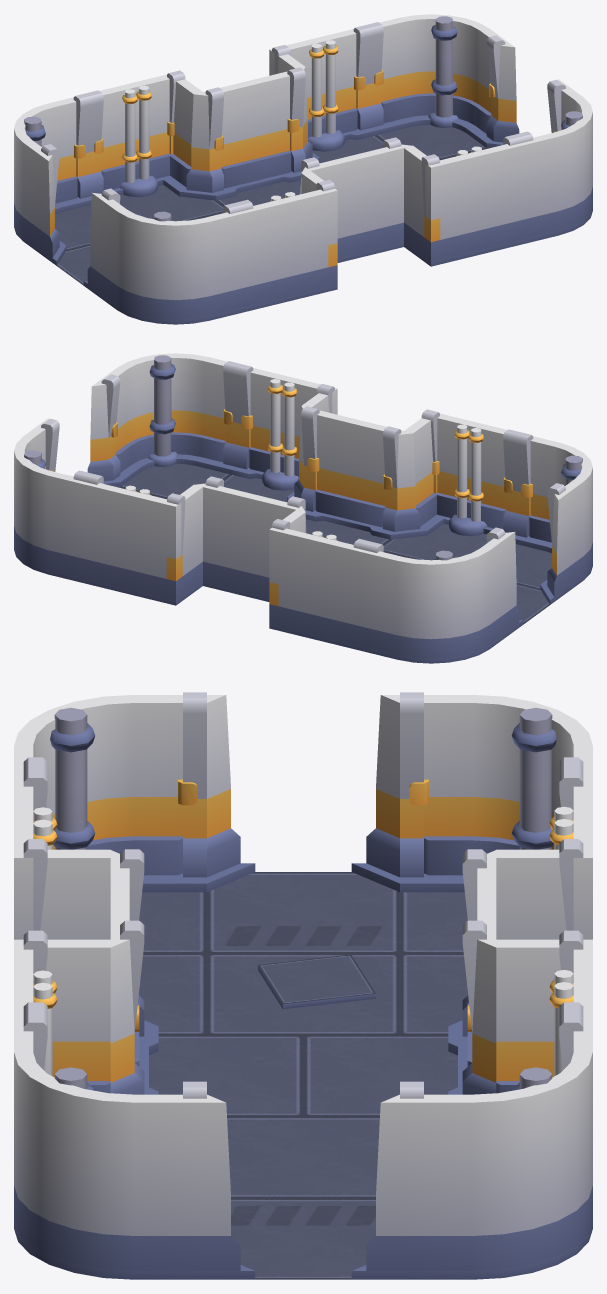
The model's file is kenney-space-room-wide-variation.glb.
3 renders of one model, top to bottom at view 1: azimuth 30°, elevation 25°; view 2: azimuth 150°, elevation 25°; view 3: azimuth 270°, elevation 25°, orthographic. The views are drawn at different scales.
Parts seen in each view (by area): view 1: room-wide-variation; view 2: room-wide-variation; view 3: room-wide-variation.
Boxes of the visible parts, x1,y1,x2,y2 form: room-wide-variation: [14, 14, 592, 324]; room-wide-variation: [14, 353, 592, 663]; room-wide-variation: [14, 692, 592, 1279].
Bounding box in the file's own units: 15 × 3.19 × 9.
1 material, 1 textured.
